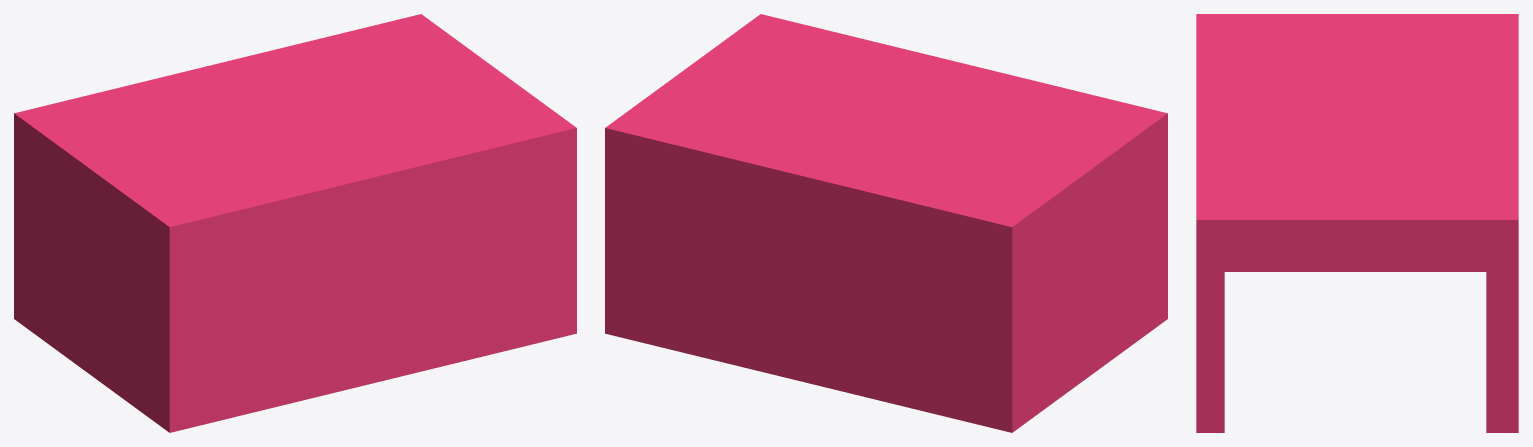
Rendered from garage.dae.
3 renders of one model, left to right at view 1: azimuth 30°, elevation 25°; view 2: azimuth 150°, elevation 25°; view 3: azimuth 270°, elevation 25°, orthographic. The views are drawn at different scales.
Parts seen in each view (by area): view 1: Cube; view 2: Cube; view 3: Cube.
Boxes of the visible parts, bbox=[...] form: Cube: bbox=[14, 14, 576, 432]; Cube: bbox=[605, 14, 1167, 432]; Cube: bbox=[1196, 14, 1518, 432].
Size of the model in its own units: 1.41 by 0.9367 by 0.6832.
1 material, 1 textured.
